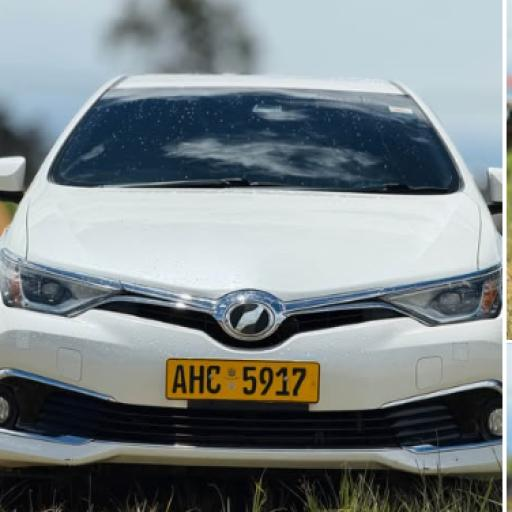number-plates: (166, 360, 314, 404)
